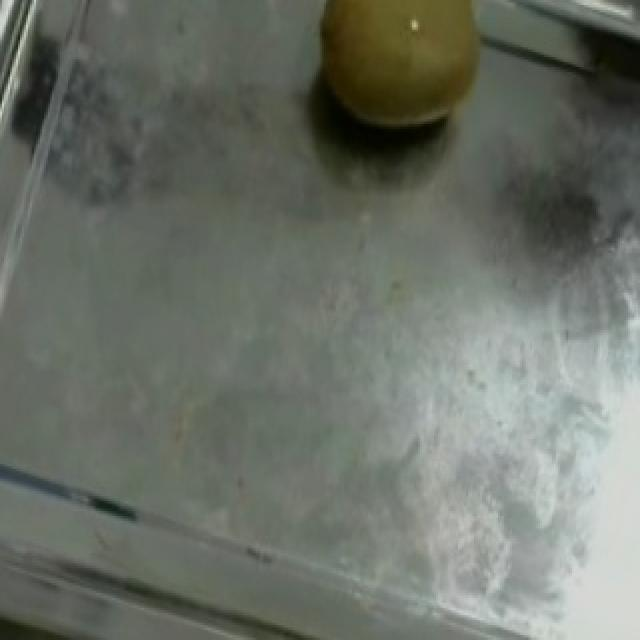Fruit: (276, 0, 524, 181)
